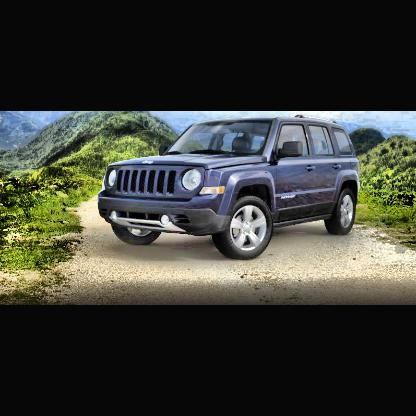Jeep Patriot SUV 2012: (96, 114, 362, 262)
